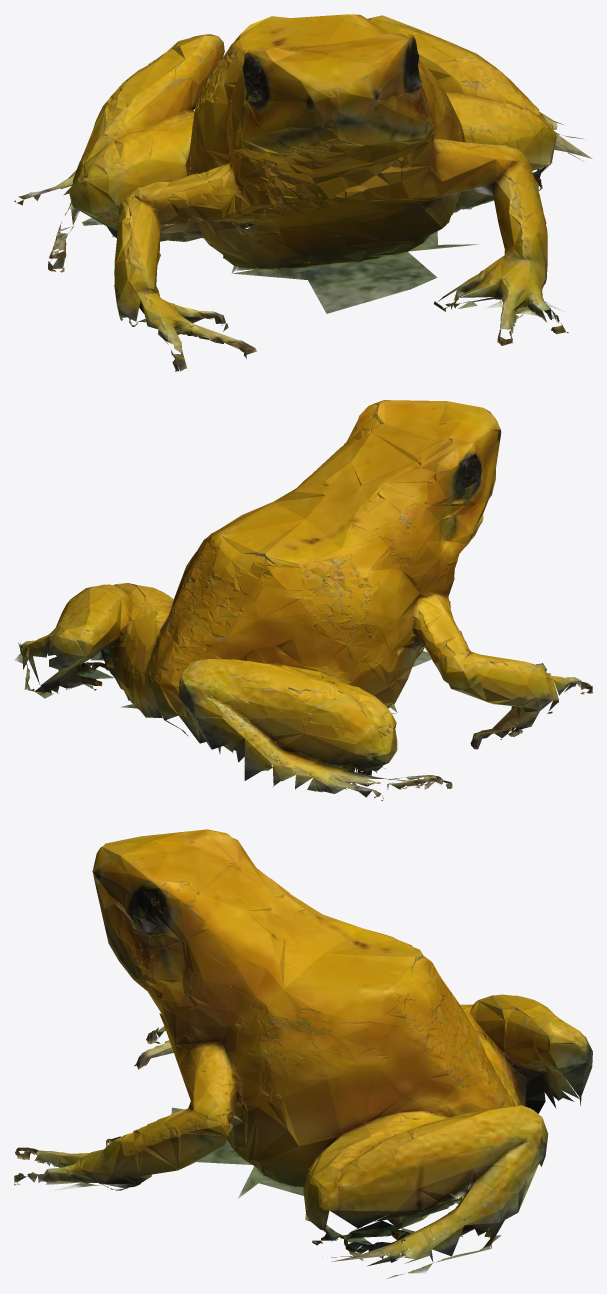
The model's file is golden-poison-frog.glb.
The picture shows the model from 3 angles, top to bottom: view 1: azimuth 30°, elevation 25°; view 2: azimuth 150°, elevation 25°; view 3: azimuth 270°, elevation 25°; orthographic projection. The views are drawn at different scales.
Parts seen in each view (by area): view 1: animal; view 2: animal; view 3: animal.
Boxes of the visible parts, x1,y1,x2,y2 form: animal: (14, 14, 592, 371); animal: (14, 400, 592, 800); animal: (14, 829, 592, 1278).
Bounding box in the file's own units: 0.0479 × 0.0241 × 0.0452.
1 material, 1 textured.
